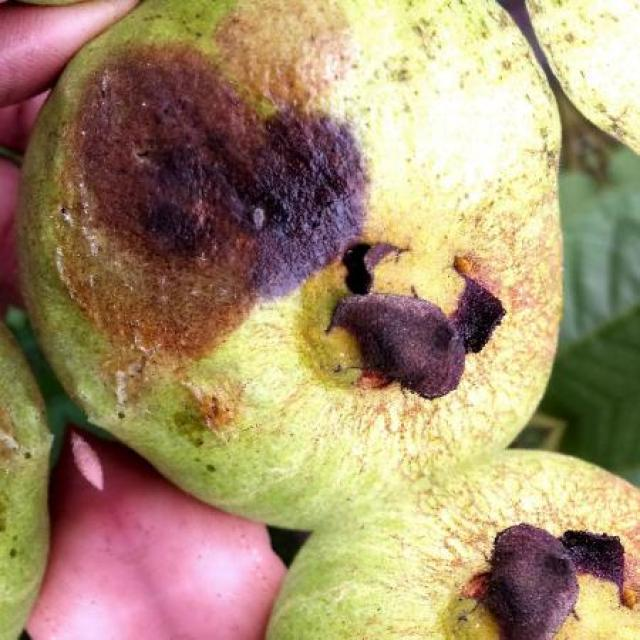Styler and Root: (20, 1, 561, 528), (268, 451, 640, 640)
